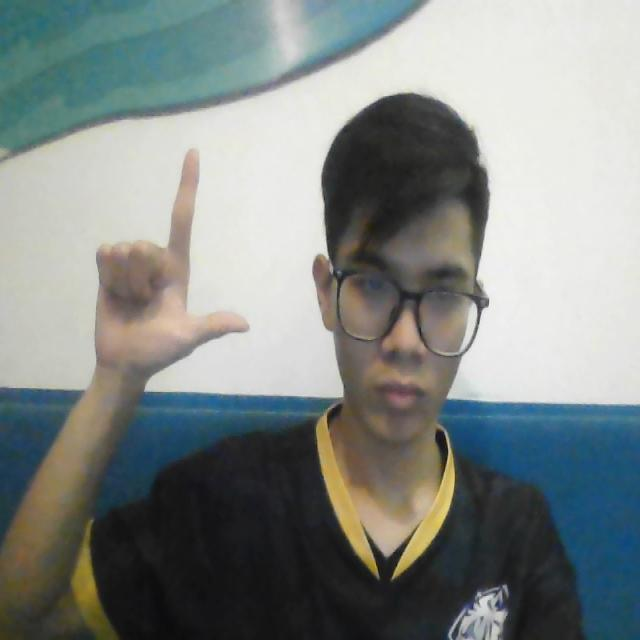L: (84, 139, 257, 372)
